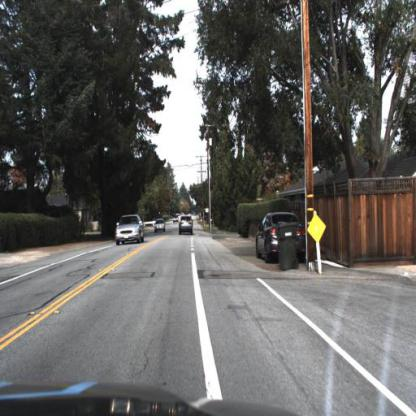car: (257, 212, 310, 262), (114, 212, 144, 246), (176, 216, 193, 239), (154, 216, 166, 233)
